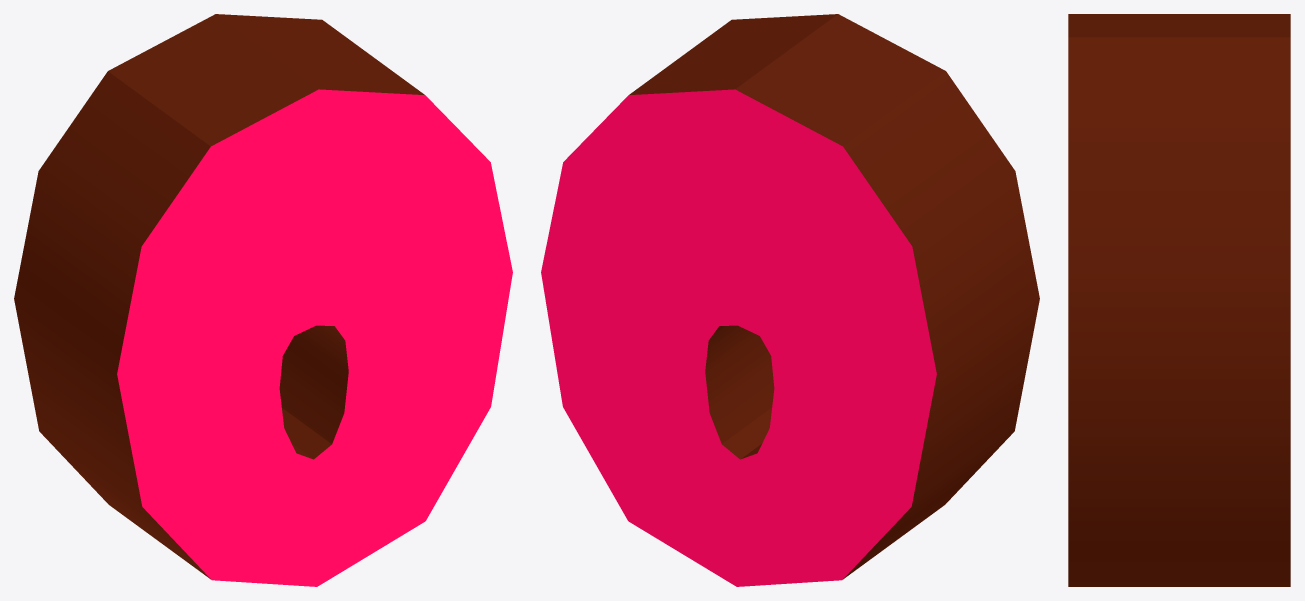
3 views of the same model, side by side, from view 1: azimuth 30°, elevation 25°; view 2: azimuth 150°, elevation 25°; view 3: azimuth 270°, elevation 25° (orthographic). The views are drawn at different scales.
Parts seen in each view (by area): view 1: o; view 2: o; view 3: o.
Boxes of the visible parts, left/top/right/bottom form: o: left=14, top=14, right=512, bottom=586; o: left=541, top=14, right=1039, bottom=586; o: left=1068, top=14, right=1290, bottom=586.
Bounding box in the file's own units: 0.3992 × 0.479 × 0.18.
